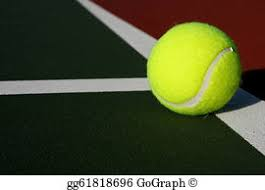tennis_ball: (145, 21, 243, 118)
